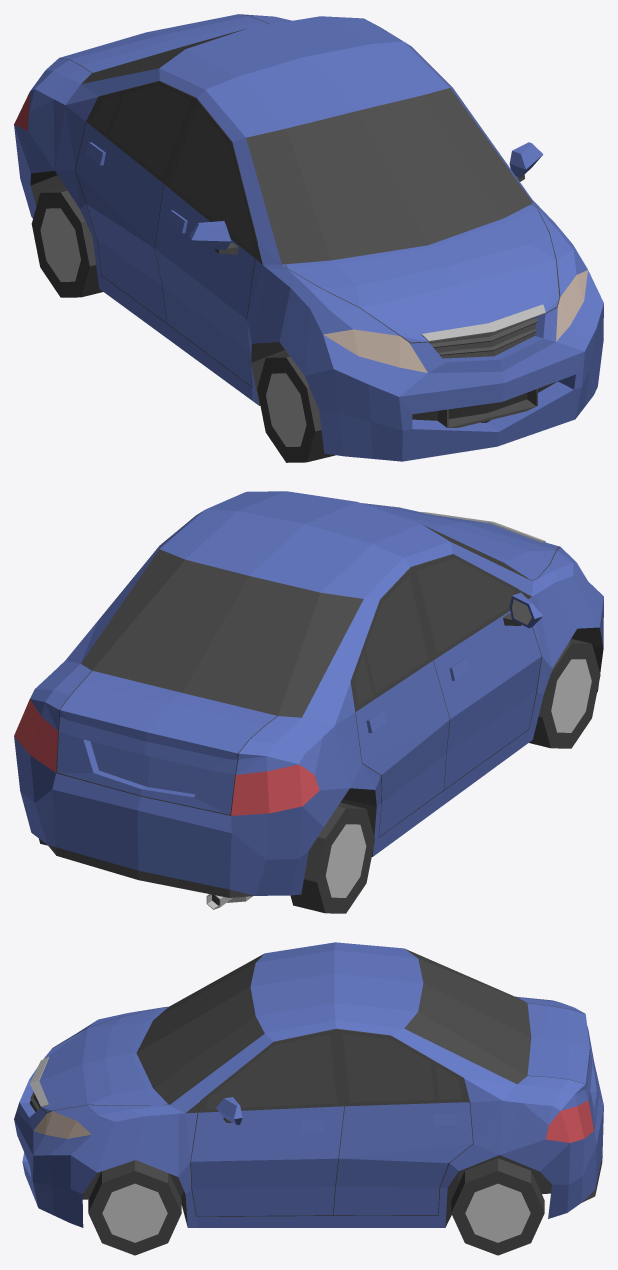
File: CarSedan1Blue.fbx
The picture shows the model from 3 angles, top to bottom: view 1: azimuth 30°, elevation 25°; view 2: azimuth 150°, elevation 25°; view 3: azimuth 270°, elevation 25°; orthographic projection. The views are drawn at different scales.
Visible parts, largest first — view 1: Cube, wheel_rr, wheel_fr; view 2: Cube, wheel_rr, wheel_fr; view 3: Cube, wheel_rl, wheel_fl.
Boxes of the visible parts, x1,y1,x2,y2 form: Cube: [14, 14, 603, 461]; wheel_rr: [31, 187, 102, 297]; wheel_fr: [257, 353, 335, 462]; Cube: [14, 491, 603, 909]; wheel_rr: [290, 802, 374, 913]; wheel_fr: [529, 638, 600, 748]; Cube: [14, 942, 603, 1227]; wheel_rl: [451, 1158, 544, 1255]; wheel_fl: [88, 1160, 181, 1255].
Bounding box in the file's own units: 2.04 × 1.55 × 3.67.
